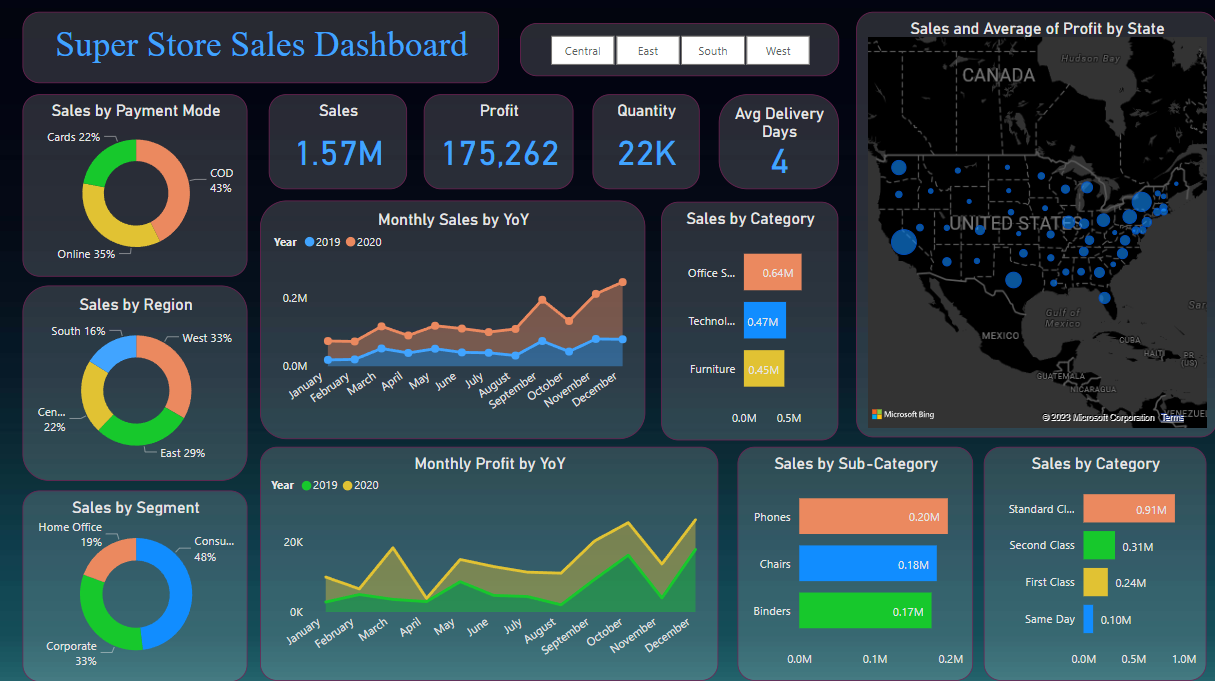

This screenshot's page, from the dashboard's own definition file:
{"tool":"powerbi","page":{"name":"Dashboard","canvas":[1280,720],"ordinal":0},"visuals":[{"type":"barChart","title":"Sales by Category","fields":{"Category":["Sheet1.Category"],"Y":["Sum(Sheet1.Sales)"]},"box":[696.5,213.9,186.5,250.9],"z":0},{"type":"barChart","title":"Sales by Category","fields":{"Category":["Sheet1.Ship Mode"],"Y":["Sum(Sheet1.Sales)"]},"box":[1035.1,473,234.4,246.8],"z":1000},{"type":"barChart","title":"Sales by Sub-Category","fields":{"Category":["Sheet1.Sub-Category"],"Y":["Sum(Sheet1.Sales)"]},"box":[776,473,248.2,246.8],"z":2000},{"type":"stackedAreaChart","title":"Monthly Sales by YoY","fields":{"Category":["Sheet1.Order Date.Variation.Date Hierarchy.Month","Sheet1.Order Date.Variation.Date Hierarchy.Day"],"Y":["Sum(Sheet1.Sales)"],"Series":["Sheet1.Order Date.Variation.Date Hierarchy.Year"]},"box":[274.2,212.5,405.8,250.9],"z":3000},{"type":"stackedAreaChart","title":"Monthly Profit by YoY","fields":{"Category":["Sheet1.Order Date.Variation.Date Hierarchy.Month","Sheet1.Order Date.Variation.Date Hierarchy.Day"],"Series":["Sheet1.Order Date.Variation.Date Hierarchy.Year"],"Y":["Sum(Sheet1.Profit)"]},"box":[274.2,473,482.6,246.8],"z":4000},{"type":"map","title":"Sales and Average of Profit by State","fields":{"Category":["Sheet1.State"],"Size":["Sum(Sheet1.Sales)"]},"box":[900.8,15.1,379.8,448.3],"z":5000},{"type":"donutChart","title":"Sales by Segment","fields":{"Category":["Sheet1.Segment"],"Y":["Sum(Sheet1.Sales)"]},"box":[23.3,518.3,237.2,201.5],"z":6000},{"type":"donutChart","title":"Sales by Payment Mode","fields":{"Y":["Sum(Sheet1.Sales)"],"Category":["Sheet1.Payment Mode"]},"box":[23.3,101.5,237.2,191.9],"z":7000},{"type":"donutChart","title":"Sales by Region","fields":{"Y":["Sum(Sheet1.Sales)"],"Category":["Sheet1.Region"]},"box":[23.3,303,237.2,205.7],"z":8000},{"type":"slicer","fields":{"Values":["Sheet1.Region"]},"box":[547,26,335.9,56.2],"z":9000},{"type":"card","title":"Sales","fields":{"Values":["Sum(Sheet1.Sales)"]},"box":[282.4,101.5,145.3,100.1],"z":10000},{"type":"card","title":"Quantity","fields":{"Values":["Sum(Sheet1.Quantity)"]},"box":[623.8,101.5,112.4,100.1],"z":11000},{"type":"card","title":"Profit","fields":{"Values":["Sum(Sheet1.Profit)"]},"box":[445.6,101.5,157.7,100.1],"z":12000},{"type":"card","title":"Avg Delivery Days","fields":{"Values":["Avg(Sheet1.Avgdelivery day)"]},"box":[756.8,101.5,126.1,100.1],"z":13000},{"type":"textbox","box":[23.3,15.1,501.8,75.4],"z":14000}]}

Visuals, with their boxes in screenshot pixels (x1, y1, x2, y2), scaled from the page's 1280x720 canvas onto the 1215x681 screenshot:
"Sales by Category" barChart: 661:202:838:440
"Sales by Category" barChart: 983:447:1205:680
"Sales by Sub-Category" barChart: 737:447:972:680
"Monthly Sales by YoY" stackedAreaChart: 260:201:645:438
"Monthly Profit by YoY" stackedAreaChart: 260:447:718:680
"Sales and Average of Profit by State" map: 855:14:1214:438
"Sales by Segment" donutChart: 22:490:247:680
"Sales by Payment Mode" donutChart: 22:96:247:278
"Sales by Region" donutChart: 22:287:247:481
slicer - Sheet1.Region: 519:25:838:78
"Sales" card: 268:96:406:191
"Quantity" card: 592:96:699:191
"Profit" card: 423:96:573:191
"Avg Delivery Days" card: 718:96:838:191
textbox: 22:14:498:86
